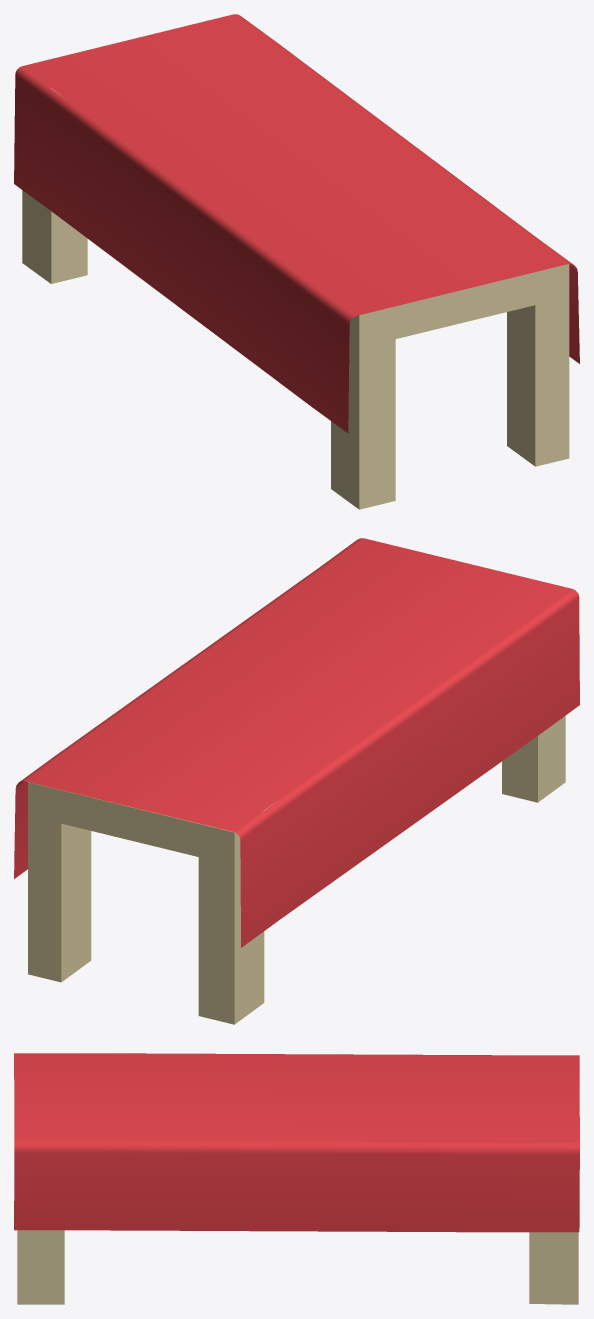
File: musterimasa.fbx
The picture shows the model from 3 angles, top to bottom: view 1: azimuth 30°, elevation 25°; view 2: azimuth 150°, elevation 25°; view 3: azimuth 270°, elevation 25°; orthographic projection. The views are drawn at different scales.
Visible parts, largest first — view 1: masa; view 2: masa; view 3: masa.
Part boxes in pixels (left/top/right/bottom): masa: left=14, top=14, right=579, bottom=509; masa: left=14, top=538, right=579, bottom=1024; masa: left=14, top=1053, right=579, bottom=1304.
Bounding box in the file's own units: 39.03 × 30.96 × 97.1.
